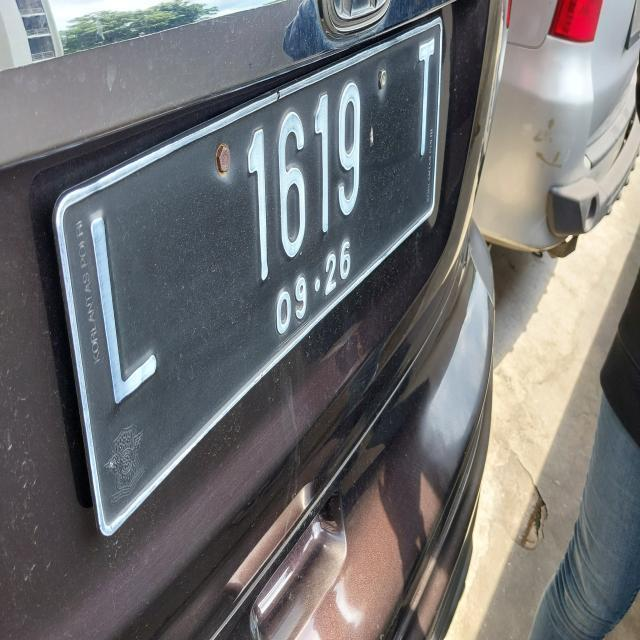1: (220, 113, 279, 307), (302, 89, 344, 250)
6: (264, 106, 318, 264)
9: (330, 79, 370, 216)
L: (68, 198, 170, 435)
T: (404, 44, 446, 176)
